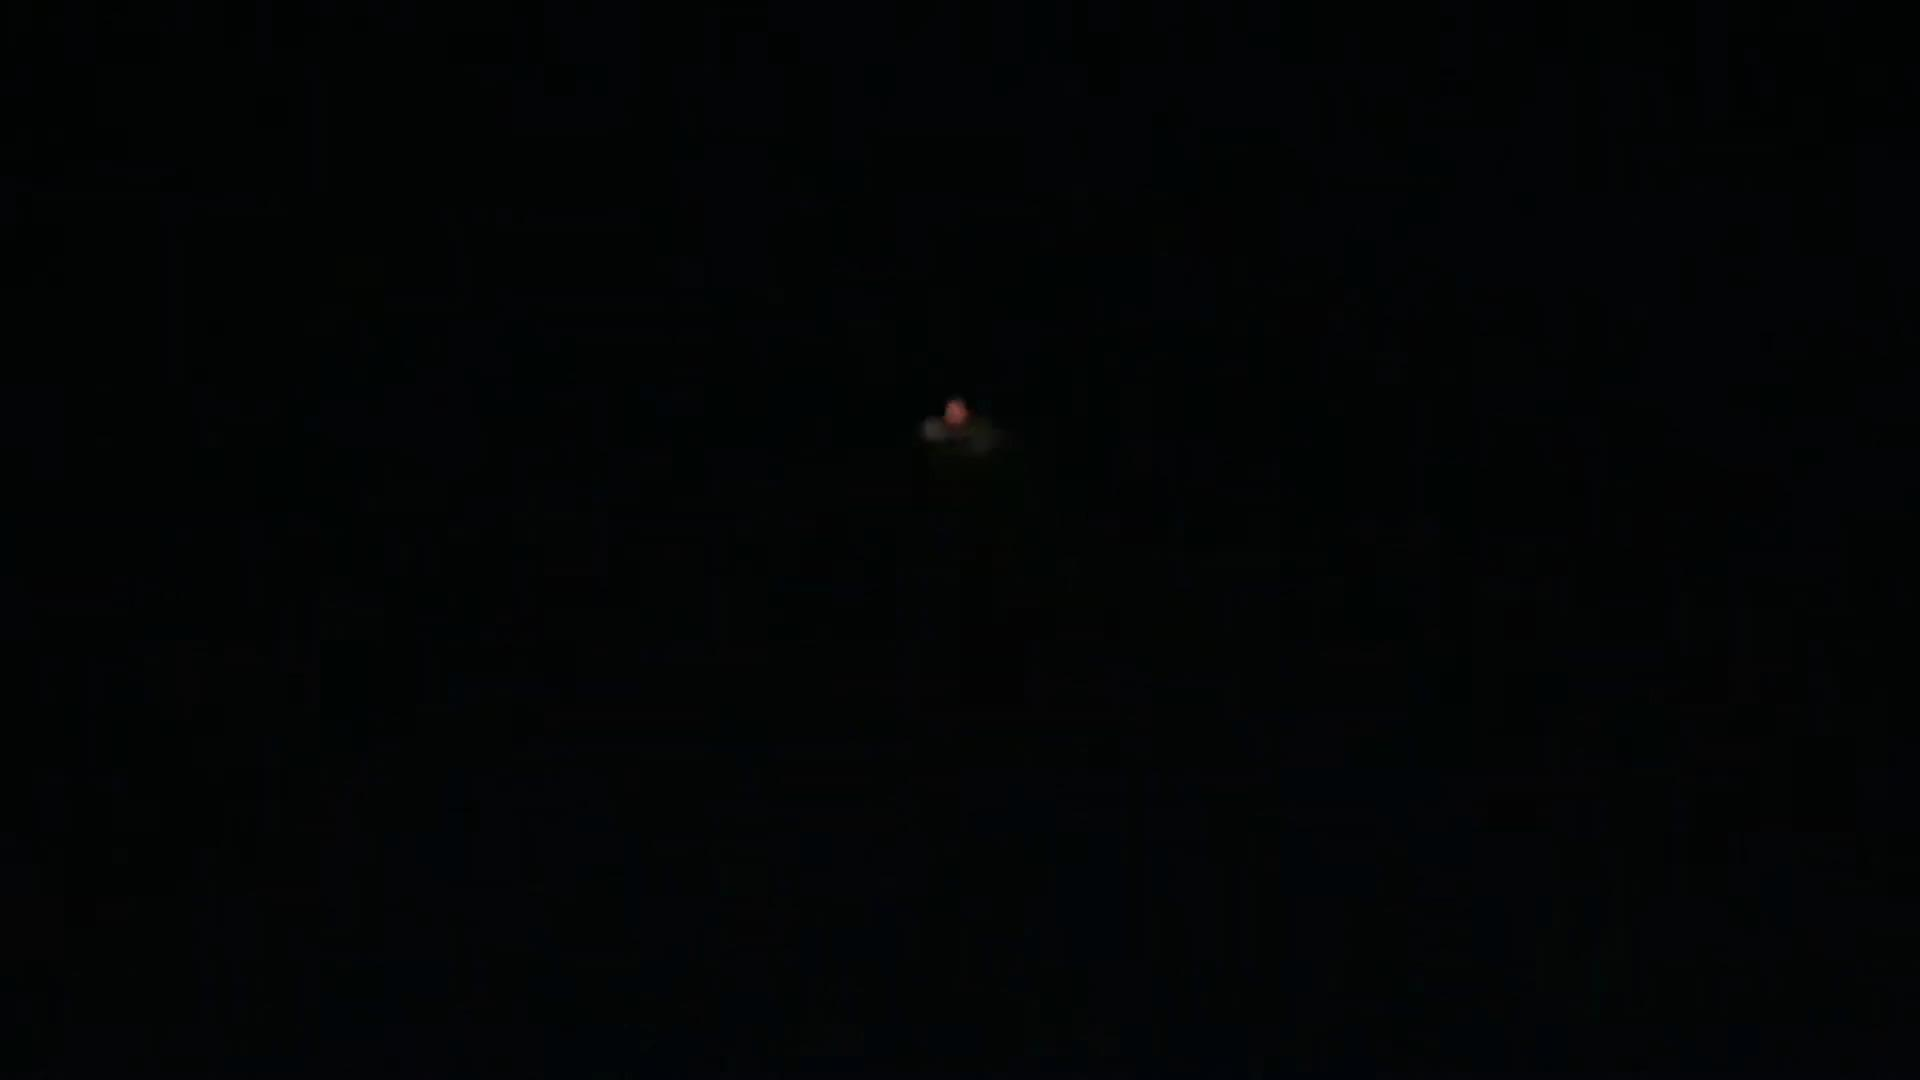Plane: (864, 367, 1069, 483)
